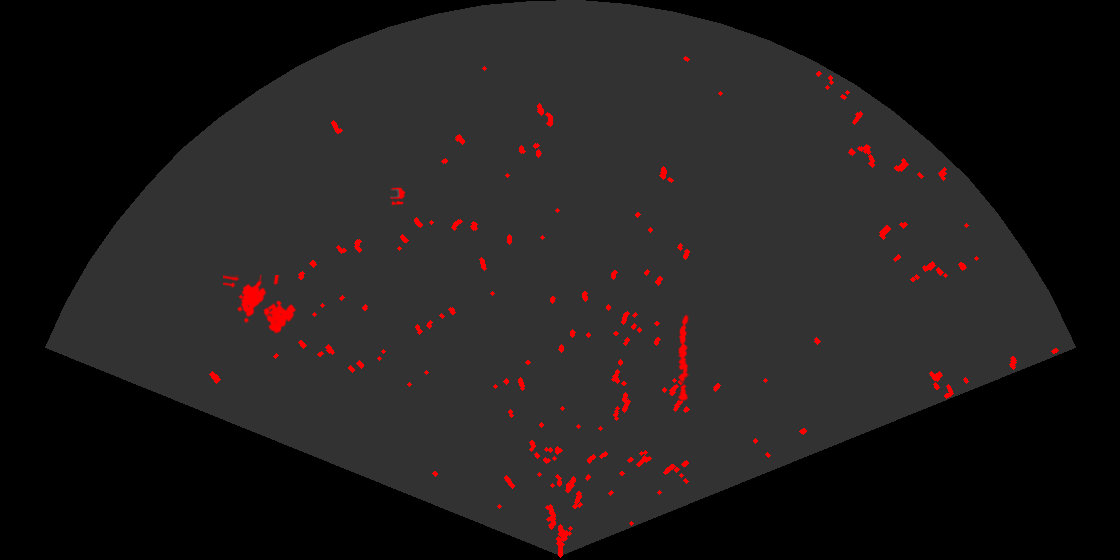ball: (388, 186, 407, 207)
cage: (223, 275, 298, 335)
chain: (676, 313, 690, 401)
